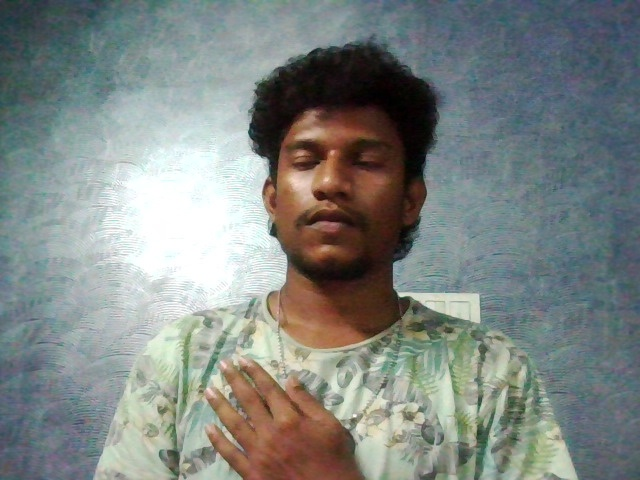please: (172, 335, 377, 480)
